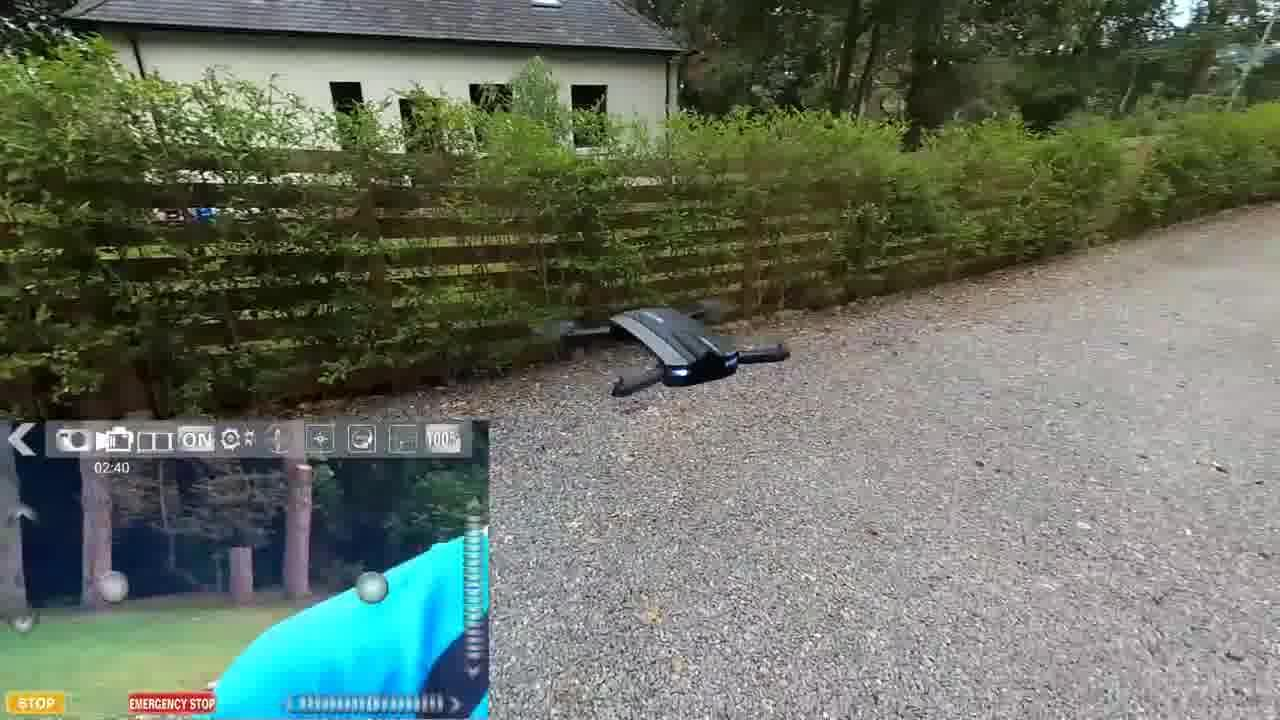drone: (529, 276, 822, 415)
